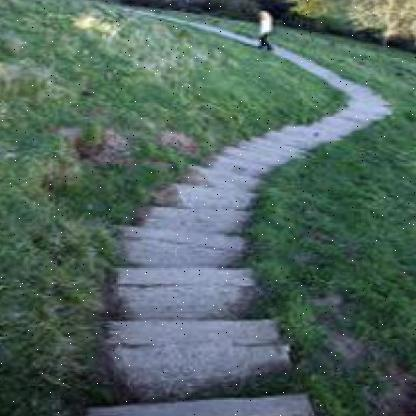stair_down: (108, 164, 291, 358)
